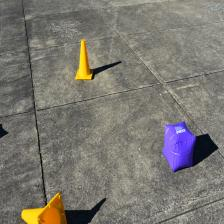cone: (21, 192, 67, 224), (75, 39, 94, 80)
cube: (162, 121, 196, 172)
